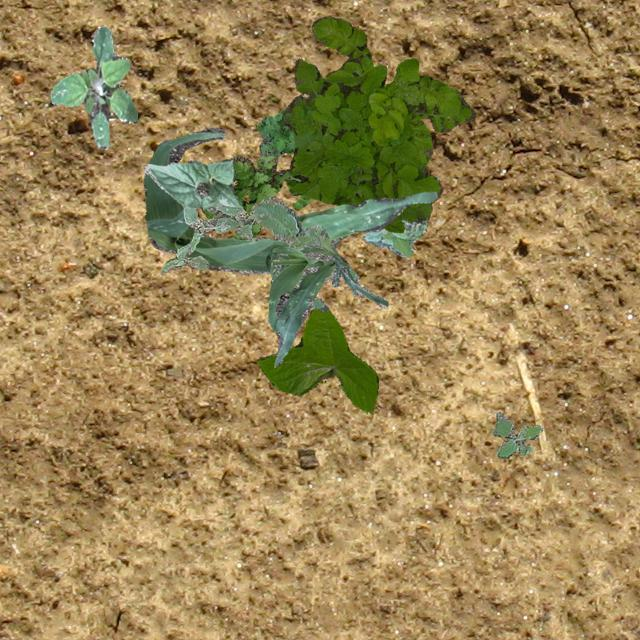crop: (143, 126, 339, 274), (268, 228, 387, 366), (264, 190, 436, 268), (256, 306, 378, 412), (144, 158, 240, 208)
weed: (282, 15, 474, 232), (250, 196, 358, 310), (49, 24, 138, 148), (202, 154, 310, 238), (160, 204, 258, 272), (363, 216, 427, 256), (492, 412, 542, 458), (256, 106, 294, 156)
